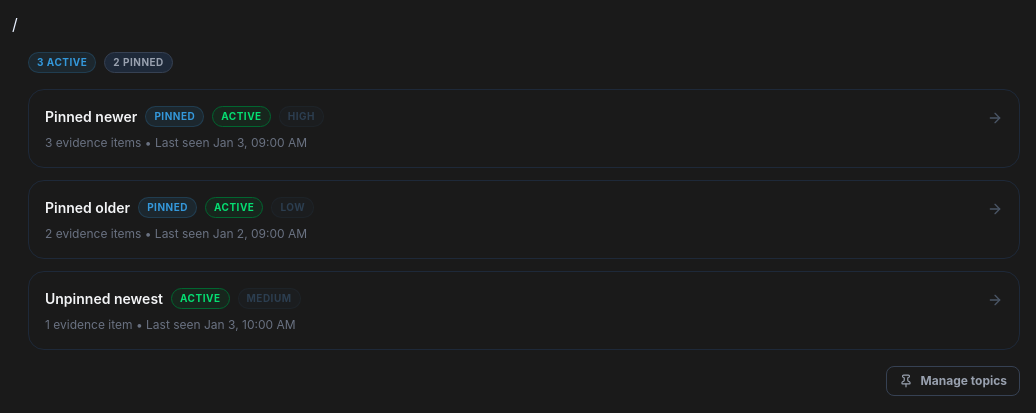
Test case: TopicFocusWidget › navigates to the selected topic detail view
What coordinates should you click on to do the following:
click the text "Pinned newer"
I would click on:
 (91, 116)
Its box is [45,106,137,126].
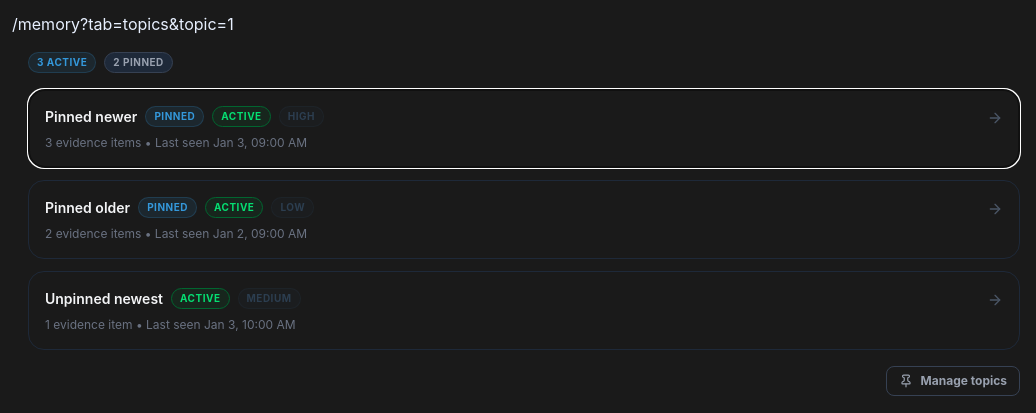
Result: the text with test id "location-probe" reads "/memory?tab=topics&topic=1" at [12,14,234,34]
